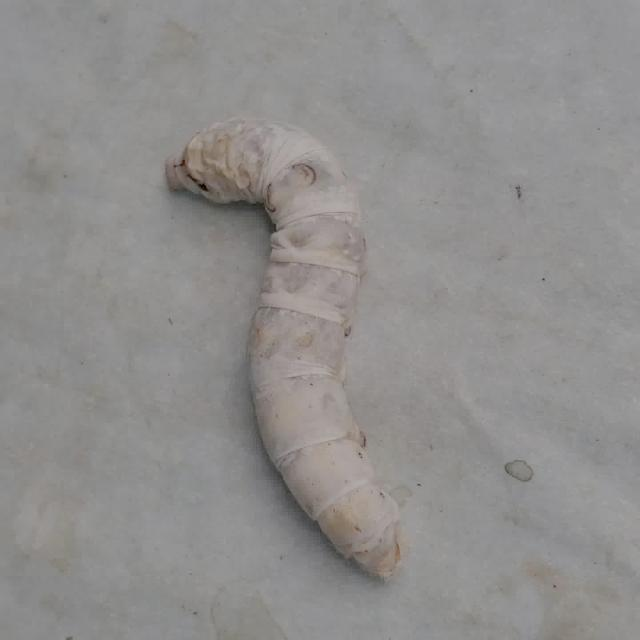Grasserie: (143, 77, 445, 597)
